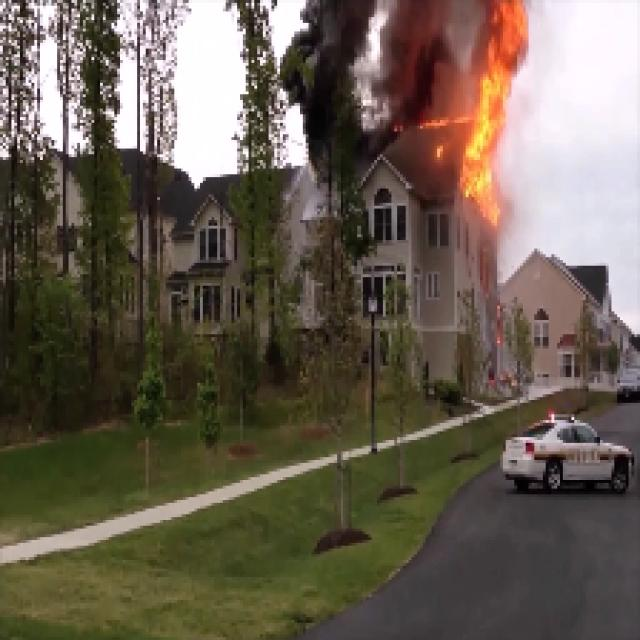fire: (468, 7, 515, 205)
smoke: (324, 8, 445, 130)
